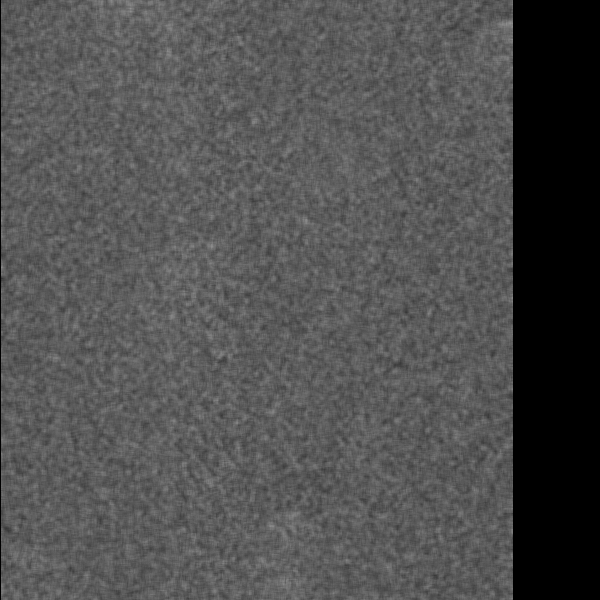spark: (233, 530, 270, 561), (277, 226, 295, 273)
